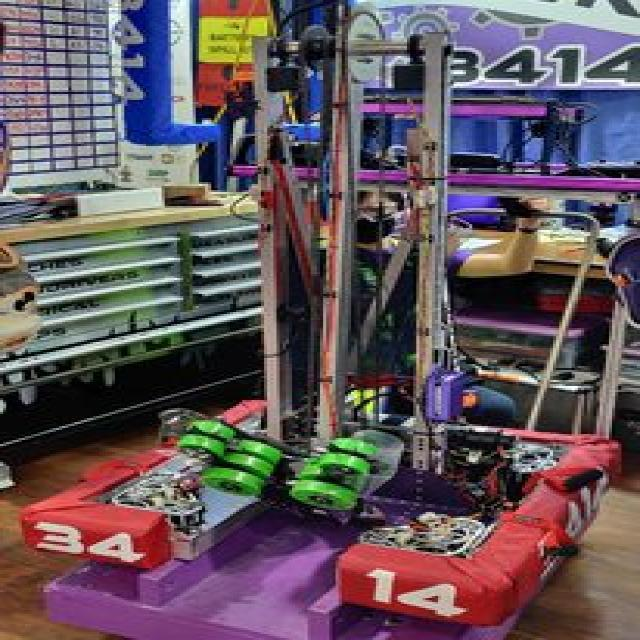robot: (16, 10, 611, 627)
